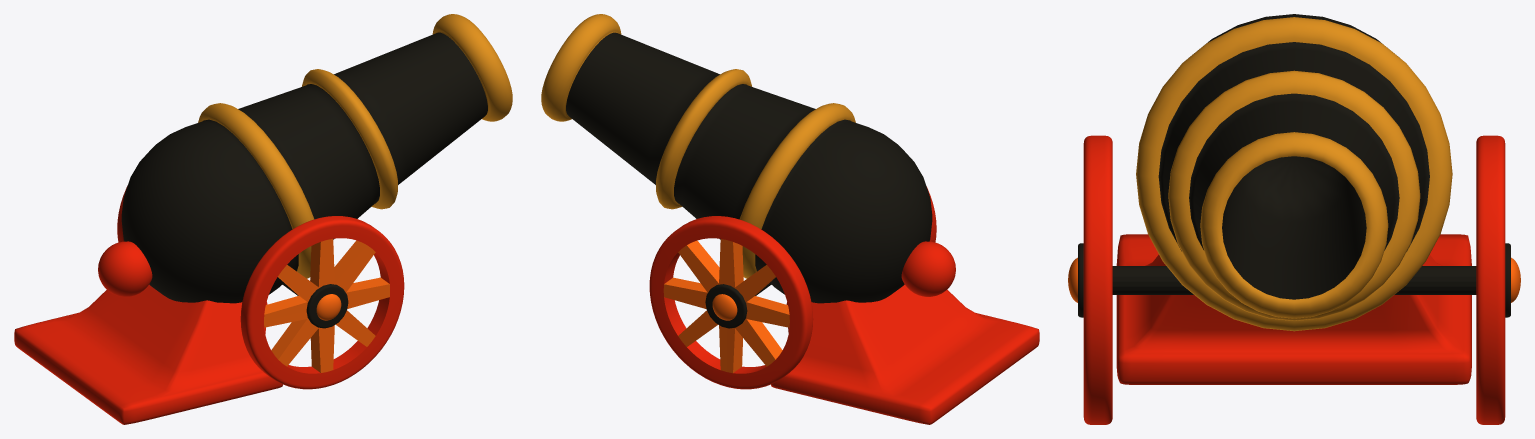
3 renders of one model, left to right at view 1: azimuth 30°, elevation 25°; view 2: azimuth 150°, elevation 25°; view 3: azimuth 270°, elevation 25°, orthographic. The views are drawn at different scales.
Parts seen in each view (by area): view 1: Sphere032, Box017, Group076, Tube025, Group077, Sphere033, Cylinder059, Sphere034; view 2: Sphere032, Box017, Group076, Tube026, Group078, Sphere033, Cylinder060, Sphere035; view 3: Group076, Sphere032, Box017, Tube025, Tube026, Cylinder060, Cylinder059.
Part boxes in pixels (left/top/right/bottom): Sphere032: left=121, top=32, right=487, bottom=303; Box017: left=14, top=284, right=282, bottom=424; Group076: left=198, top=14, right=512, bottom=278; Tube025: left=240, top=216, right=404, bottom=389; Group077: left=264, top=239, right=389, bottom=372; Sphere033: left=98, top=241, right=152, bottom=296; Cylinder059: left=282, top=283, right=348, bottom=328; Sphere034: left=316, top=294, right=341, bottom=320; Sphere032: left=566, top=32, right=932, bottom=303; Box017: left=771, top=284, right=1039, bottom=424; Group076: left=541, top=14, right=855, bottom=278; Tube026: left=649, top=216, right=813, bottom=389; Group078: left=663, top=239, right=789, bottom=373; Sphere033: left=901, top=241, right=955, bottom=296; Cylinder060: left=705, top=283, right=771, bottom=328; Sphere035: left=712, top=294, right=737, bottom=320; Group076: left=1136, top=17, right=1452, bottom=331; Sphere032: left=1158, top=14, right=1429, bottom=299; Box017: left=1116, top=234, right=1471, bottom=384; Tube025: left=1083, top=135, right=1112, bottom=424; Tube026: left=1476, top=135, right=1505, bottom=424; Cylinder060: left=1394, top=243, right=1510, bottom=317; Cylinder059: left=1078, top=243, right=1193, bottom=317.
Size of the model in its own units: 66.56 by 40.42 by 38.25.
